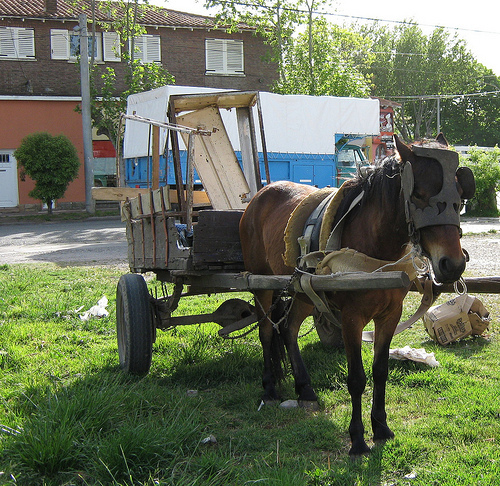horse: (239, 133, 470, 456)
